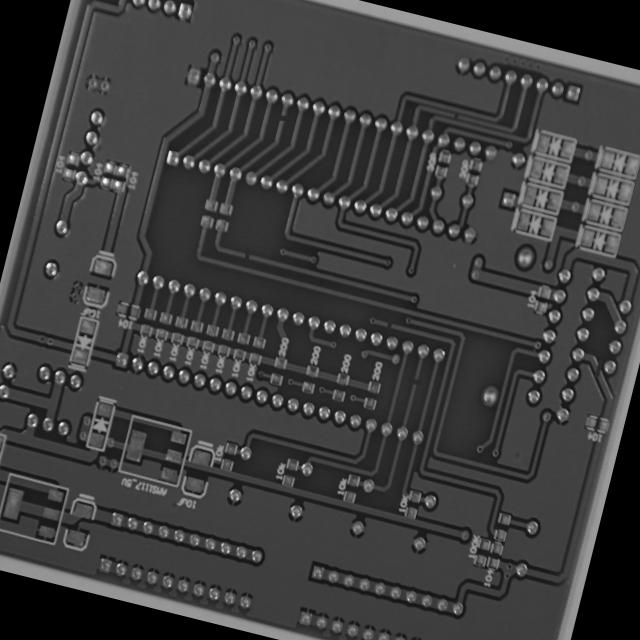open_circuit: (590, 357, 606, 382), (238, 247, 254, 263), (276, 110, 289, 124), (409, 374, 420, 388), (383, 317, 394, 330), (450, 110, 460, 120)
